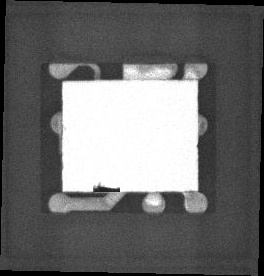DIE_BROKEN: (90, 184, 122, 192)
